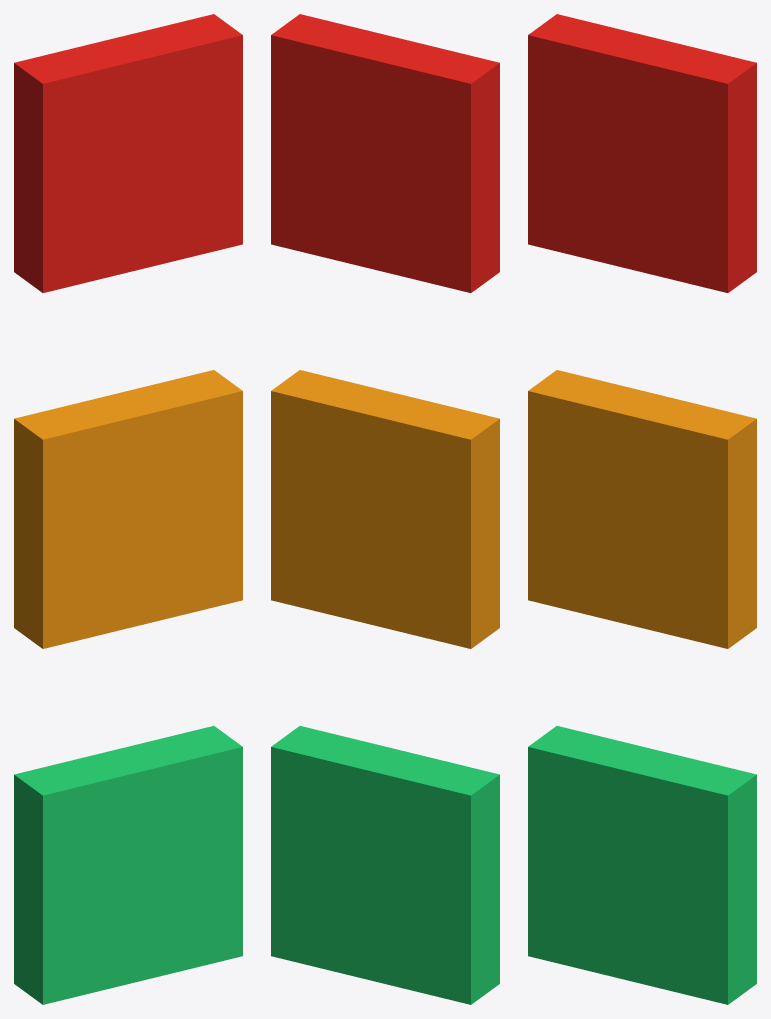
Rendered from signal_lens.glb.
The picture shows the model from 3 angles, left to right: view 1: azimuth 30°, elevation 25°; view 2: azimuth 150°, elevation 25°; view 3: azimuth 330°, elevation 25°; orthographic projection.
Size of the model in its own units: 0.2 by 0.88 by 0.05.
